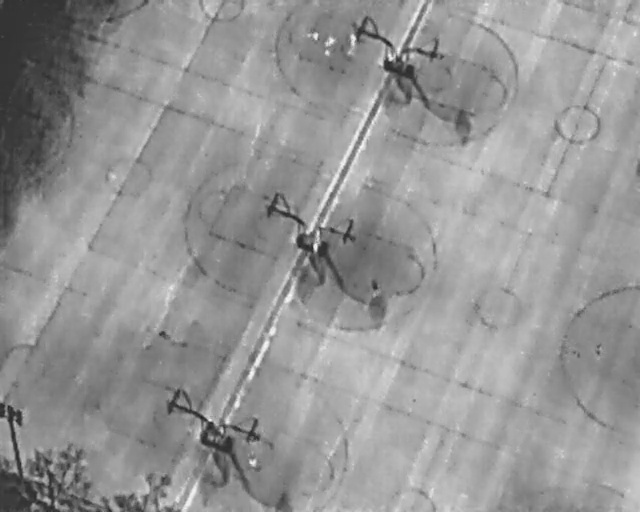Person: (322, 32, 336, 57), (246, 448, 258, 470), (349, 31, 357, 50), (308, 28, 318, 42)
